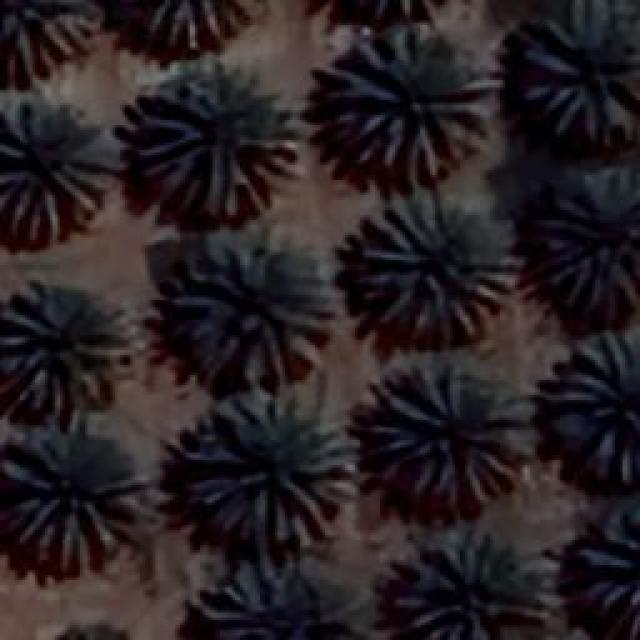PalmTree: (128, 60, 302, 225), (182, 382, 360, 542), (352, 188, 518, 348), (325, 30, 490, 185), (175, 230, 335, 385), (370, 354, 525, 508), (0, 420, 142, 570), (0, 284, 132, 417), (392, 528, 550, 638), (520, 2, 638, 148), (0, 99, 112, 242), (206, 552, 374, 640), (534, 168, 638, 310), (544, 330, 638, 485), (568, 505, 635, 640), (0, 0, 102, 80), (140, 0, 258, 48), (313, 0, 472, 29), (44, 615, 142, 640)
